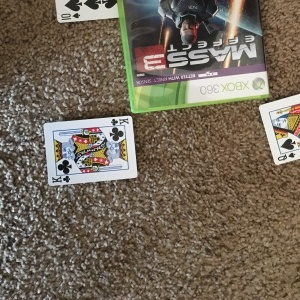card: (43, 114, 139, 186)
